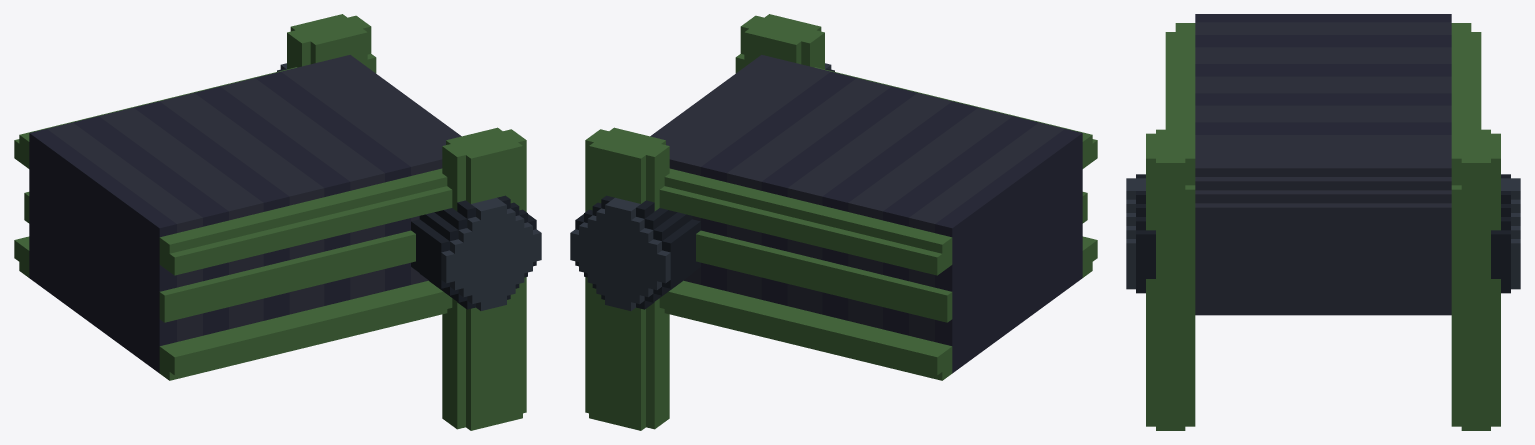
Rendered from conveyor.obj.
3 views of the same model, side by side, from view 1: azimuth 30°, elevation 25°; view 2: azimuth 150°, elevation 25°; view 3: azimuth 270°, elevation 25° (orthographic).
Bounding box in the file's own units: 4 × 3 × 4.
Materials: 1 (1 with a texture image).
